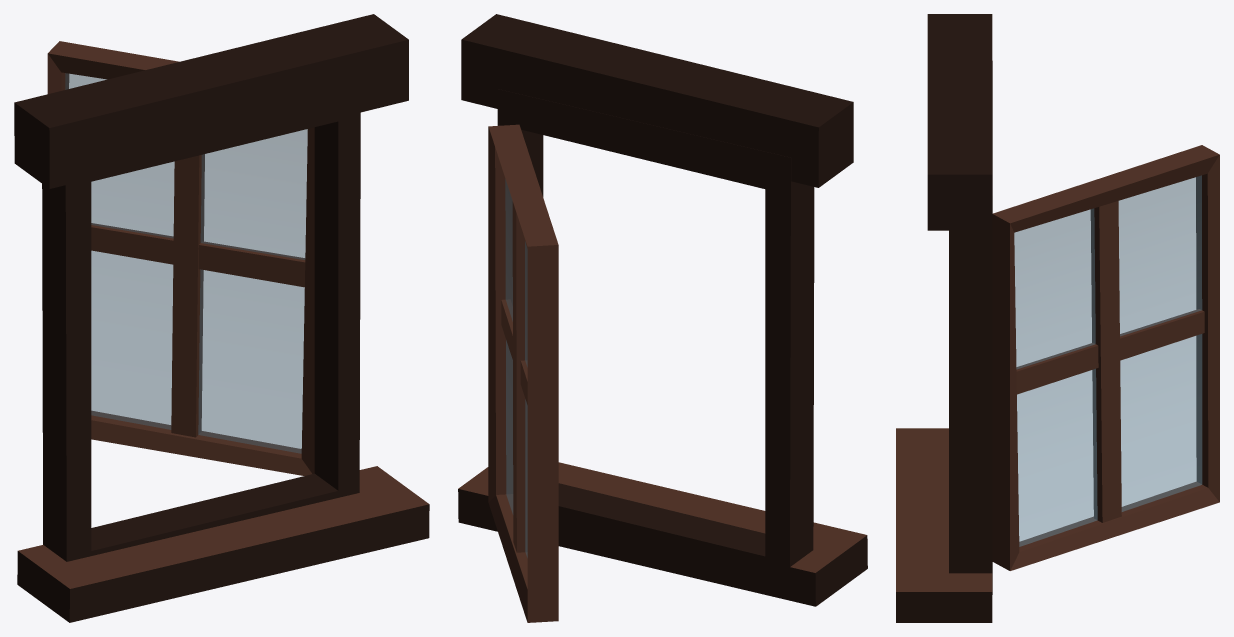
The model's file is Window 2x2 V2 Open v2.glb.
The picture shows the model from 3 angles, left to right: view 1: azimuth 30°, elevation 25°; view 2: azimuth 150°, elevation 25°; view 3: azimuth 270°, elevation 25°; orthographic projection. The views are drawn at different scales.
Visible parts, largest first — view 1: Window 2x2 V2 Open v2; view 2: Window 2x2 V2 Open v2; view 3: Window 2x2 V2 Open v2.
Boxes of the visible parts, left/top/right/bottom form: Window 2x2 V2 Open v2: left=14, top=14, right=429, bottom=622; Window 2x2 V2 Open v2: left=458, top=14, right=867, bottom=622; Window 2x2 V2 Open v2: left=896, top=14, right=1219, bottom=622.
Bounding box in the file's own units: 1.42 × 1.82 × 1.19.
2 materials, 2 textured.
